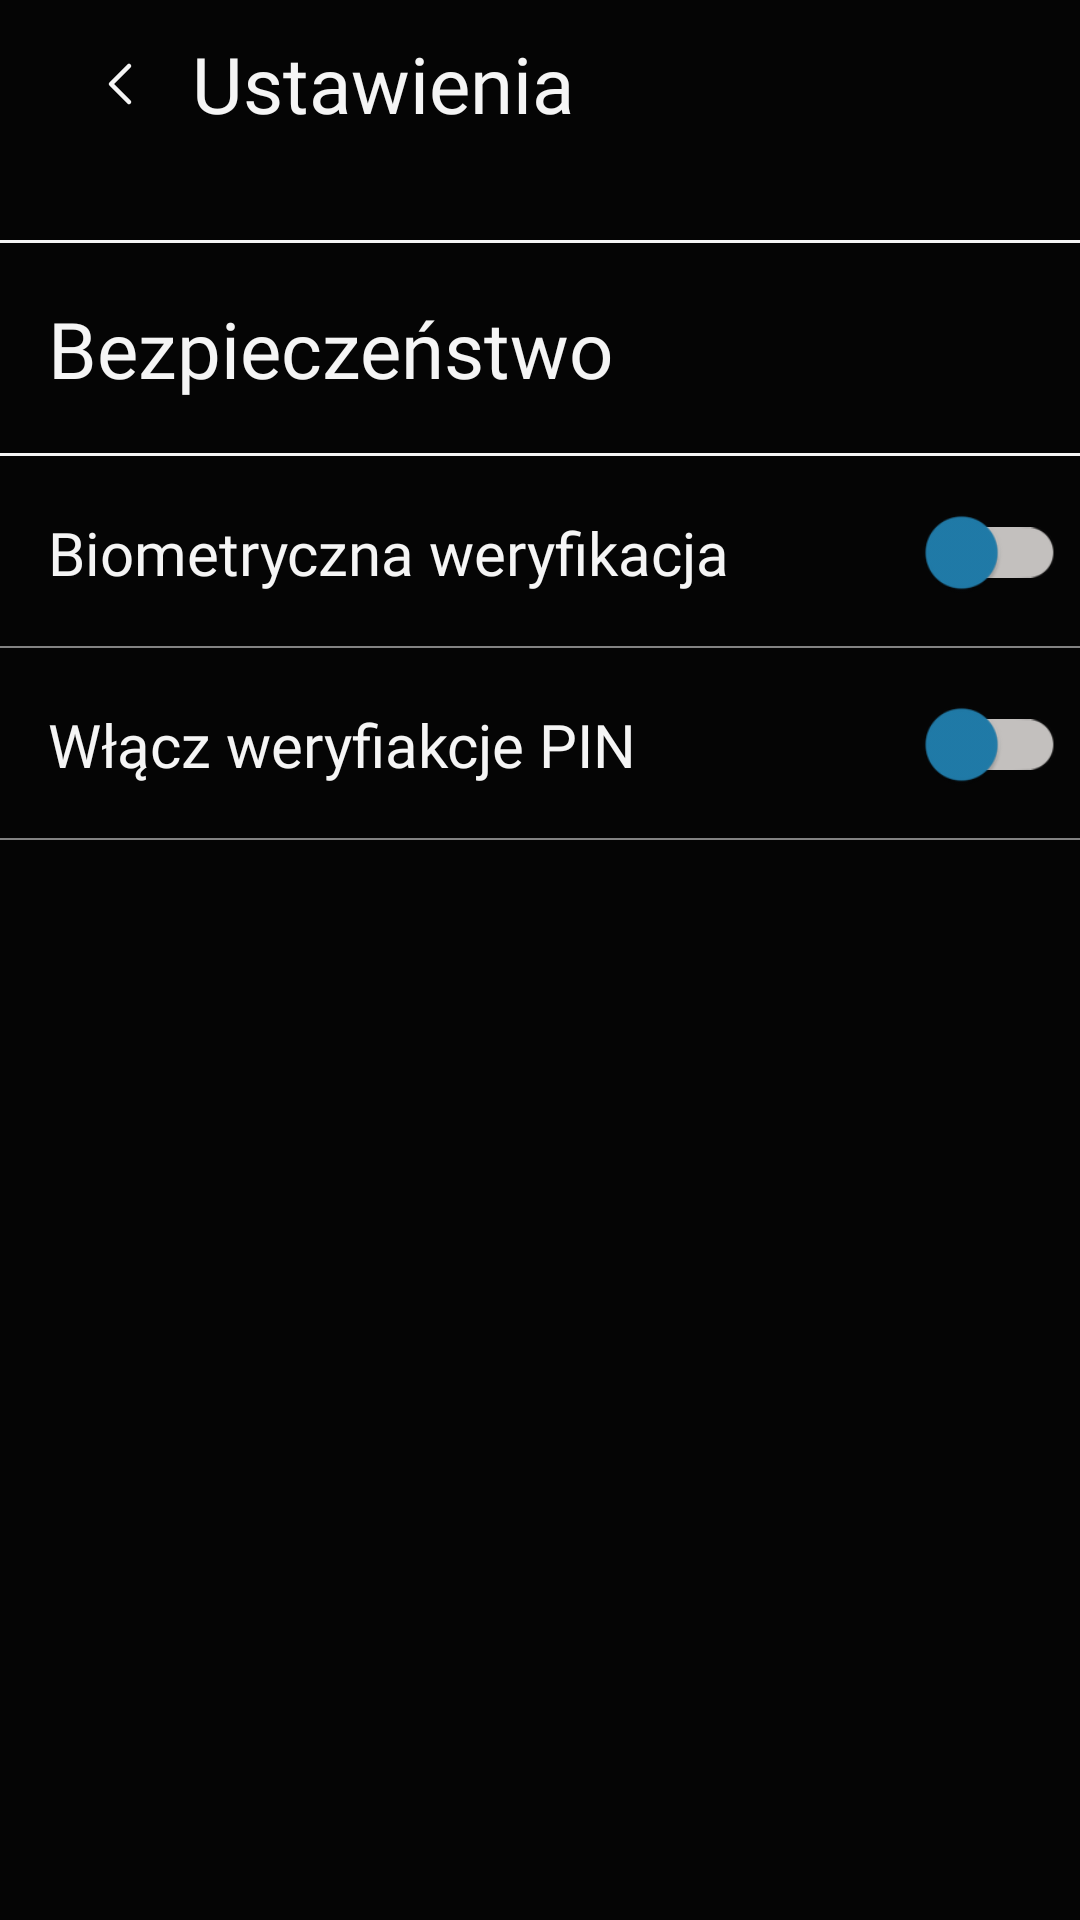

Where icons sit on this 1080 × 1920 app screen, as box(x1, y1, x2, y2):
Go Back: box(108, 63, 132, 105)
